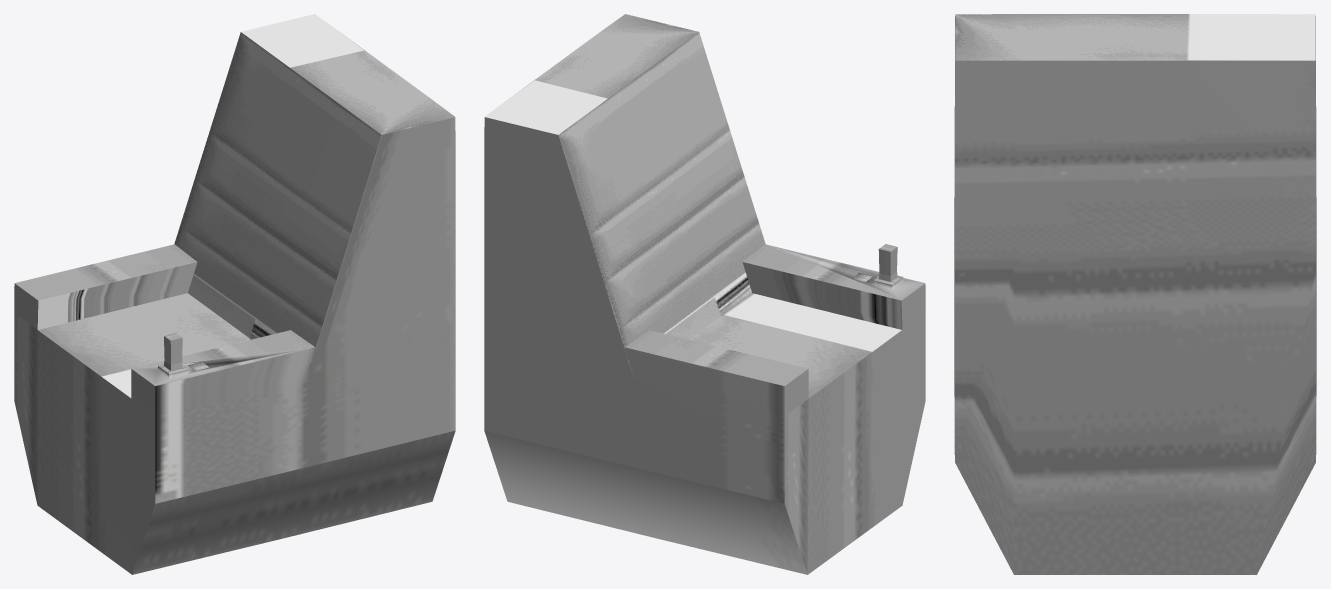
File: captain_chair.fbx
3 renders of one model, left to right at view 1: azimuth 30°, elevation 25°; view 2: azimuth 150°, elevation 25°; view 3: azimuth 270°, elevation 25°, orthographic. The views are drawn at different scales.
Parts seen in each view (by area): view 1: Captains_Chair; view 2: Captains_Chair; view 3: Captains_Chair.
Part boxes in pixels (bbox=[...]): Captains_Chair: bbox=[14, 14, 455, 574]; Captains_Chair: bbox=[484, 14, 925, 574]; Captains_Chair: bbox=[954, 14, 1316, 574].
Size of the model in its own units: 2.02 by 2.58 by 1.64.
